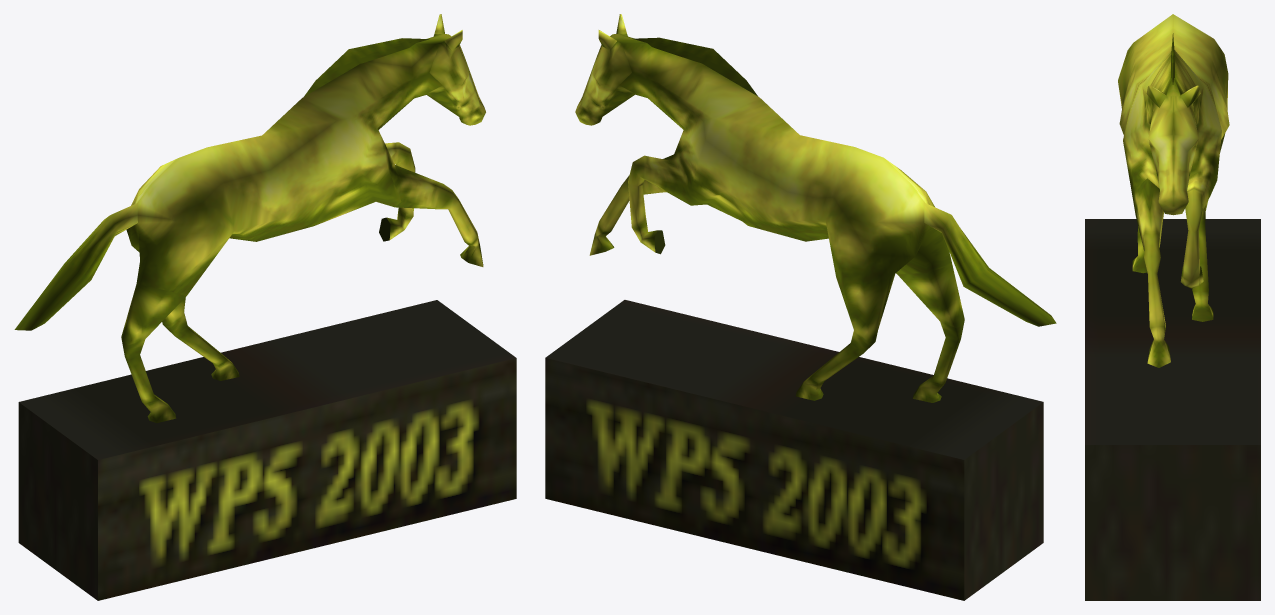
File: ic_taisen.icn.obj
The picture shows the model from 3 angles, left to right: view 1: azimuth 30°, elevation 25°; view 2: azimuth 150°, elevation 25°; view 3: azimuth 270°, elevation 25°; orthographic projection. The views are drawn at different scales.
Size of the model in its own units: 4.95 by 4.52 by 1.43.
1 material, 1 textured.
